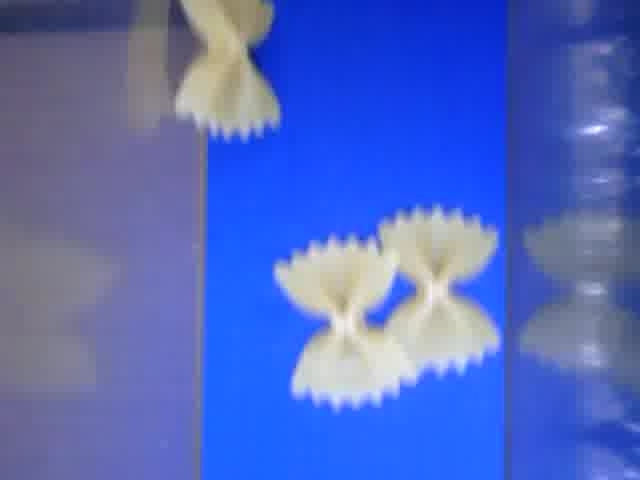farfalle: (274, 233, 419, 409), (378, 206, 503, 373), (171, 1, 283, 139)
